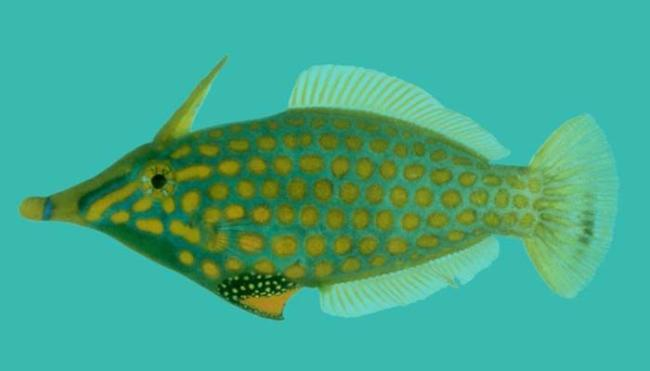fish: (20, 55, 619, 322)
